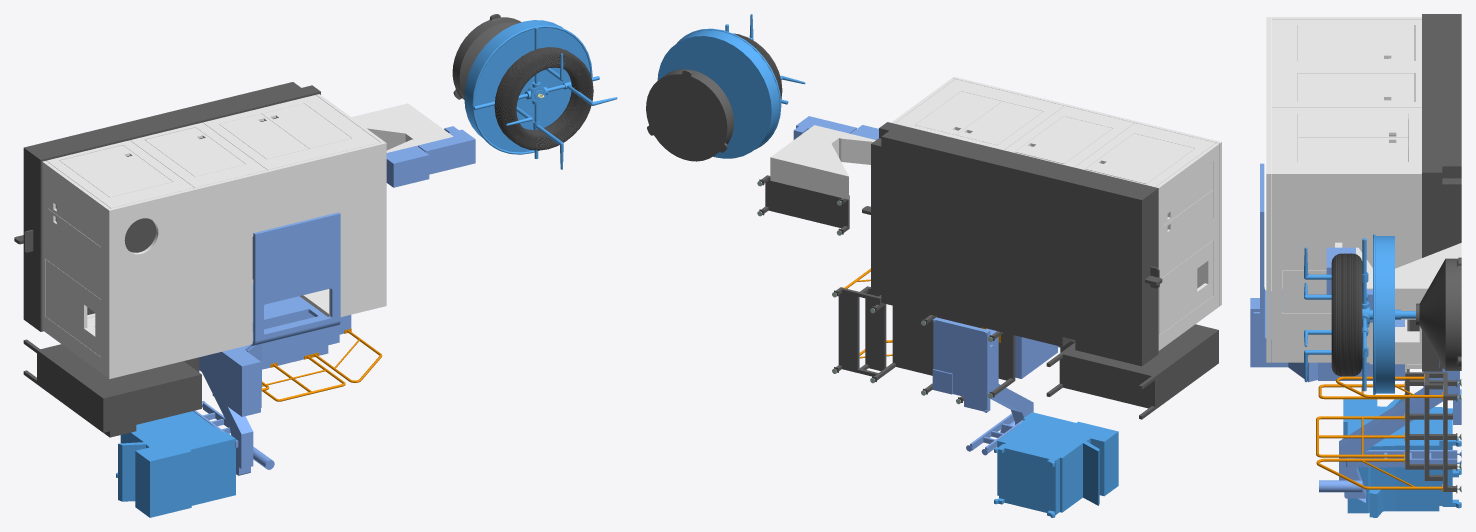
The model's file is HNP-615_프론텍_LAYOUT 배치 모델링.fbx.
3 views of the same model, side by side, from view 1: azimuth 30°, elevation 25°; view 2: azimuth 150°, elevation 25°; view 3: azimuth 270°, elevation 25° (orthographic). The views are drawn at different scales.
Parts seen in each view (by area): view 1: HD-P7758FF4B7n3c; view 2: HD-P7758FF4B7n3c; view 3: HD-P7758FF4B7n3c.
Boxes of the visible parts, bbox=[...] form: HD-P7758FF4B7n3c: bbox=[14, 14, 617, 517]; HD-P7758FF4B7n3c: bbox=[646, 14, 1221, 517]; HD-P7758FF4B7n3c: bbox=[1250, 14, 1461, 517].
Size of the model in its own units: 831 by 563 by 240.
